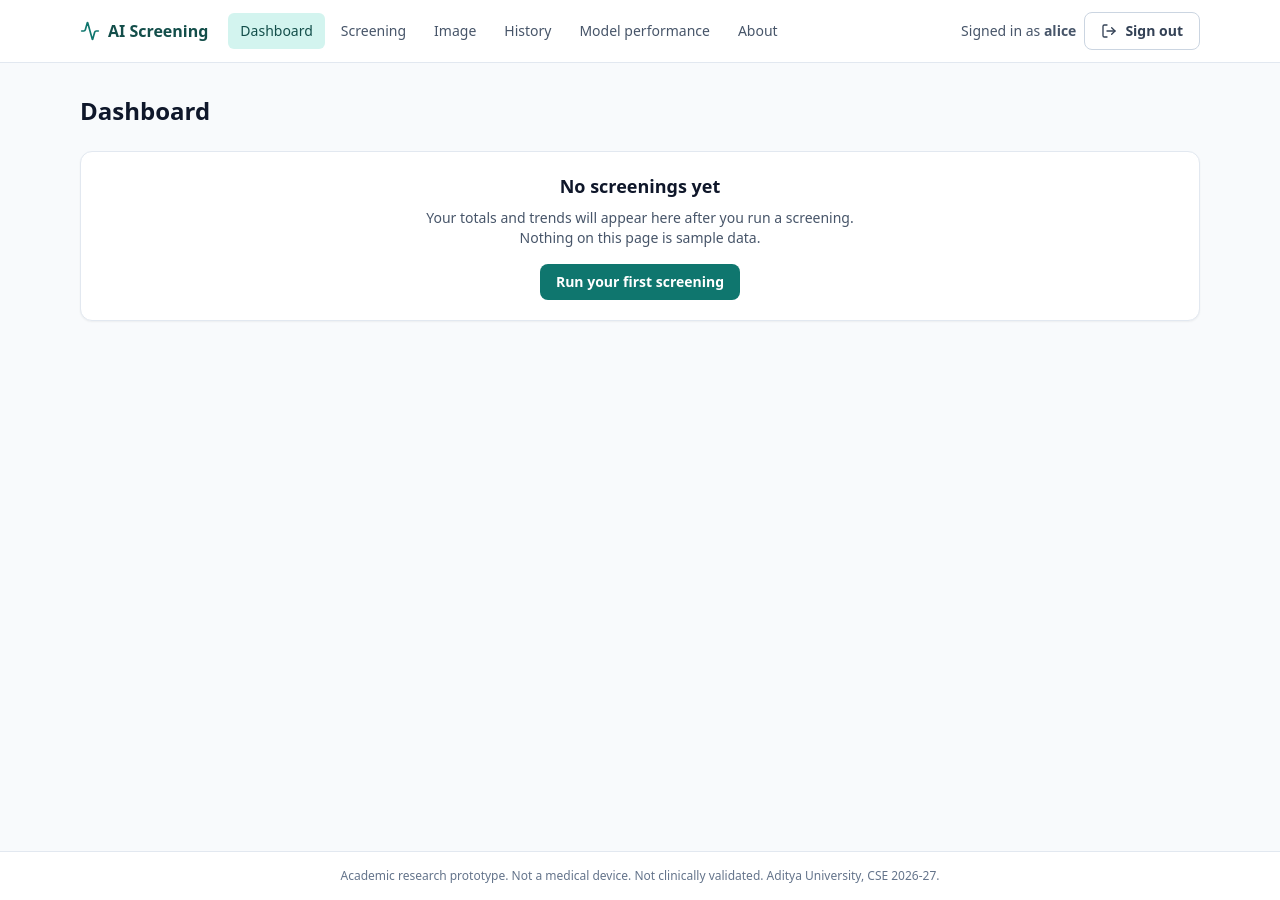
Scenario: authentication › signing out returns to the landing page
This screenshot has width=1280, height=900.
Click the button "Sign out": point(1142, 31) 1084,12 -> 1200,50
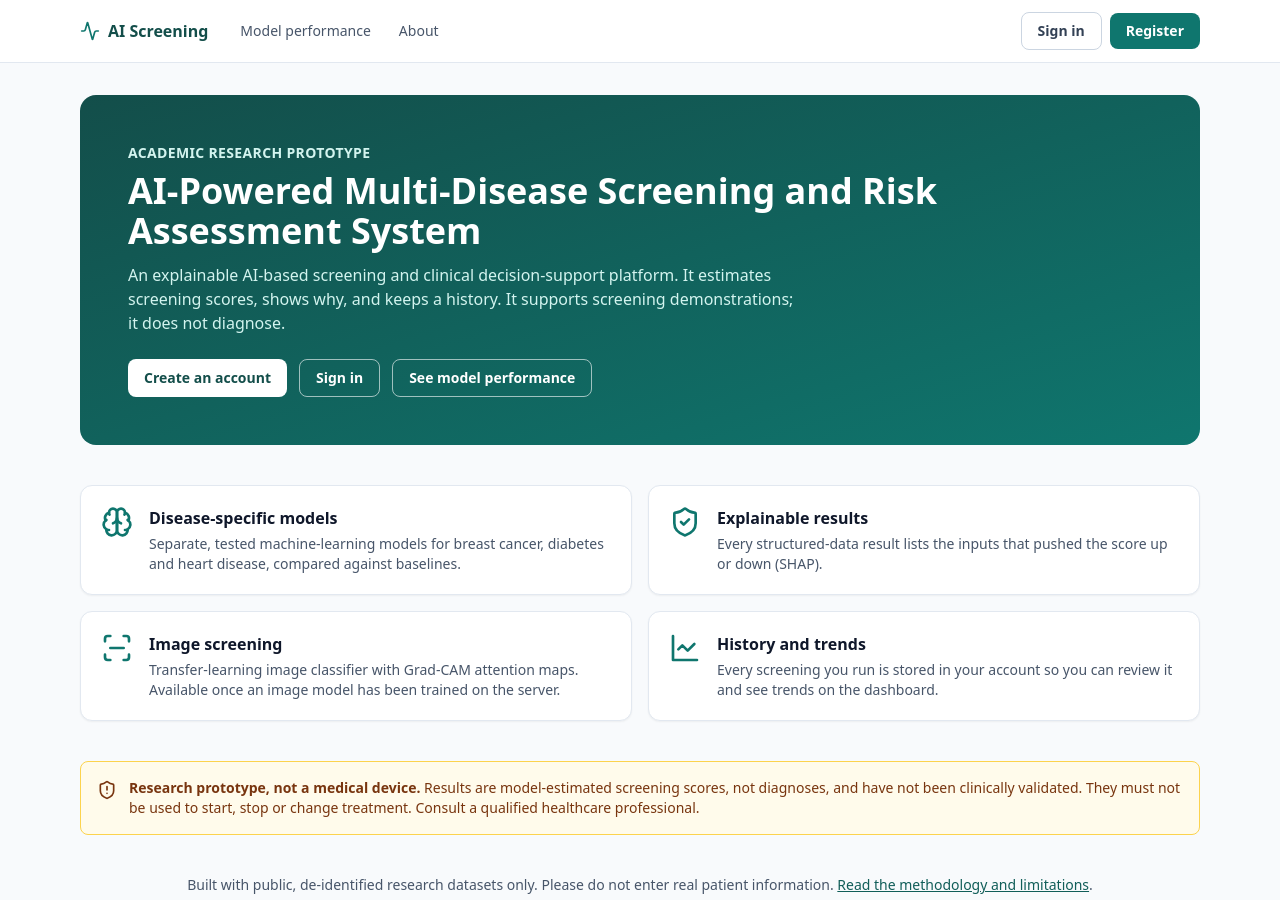
Expected: the link "Create an account" is shown, 128,359 -> 287,397
